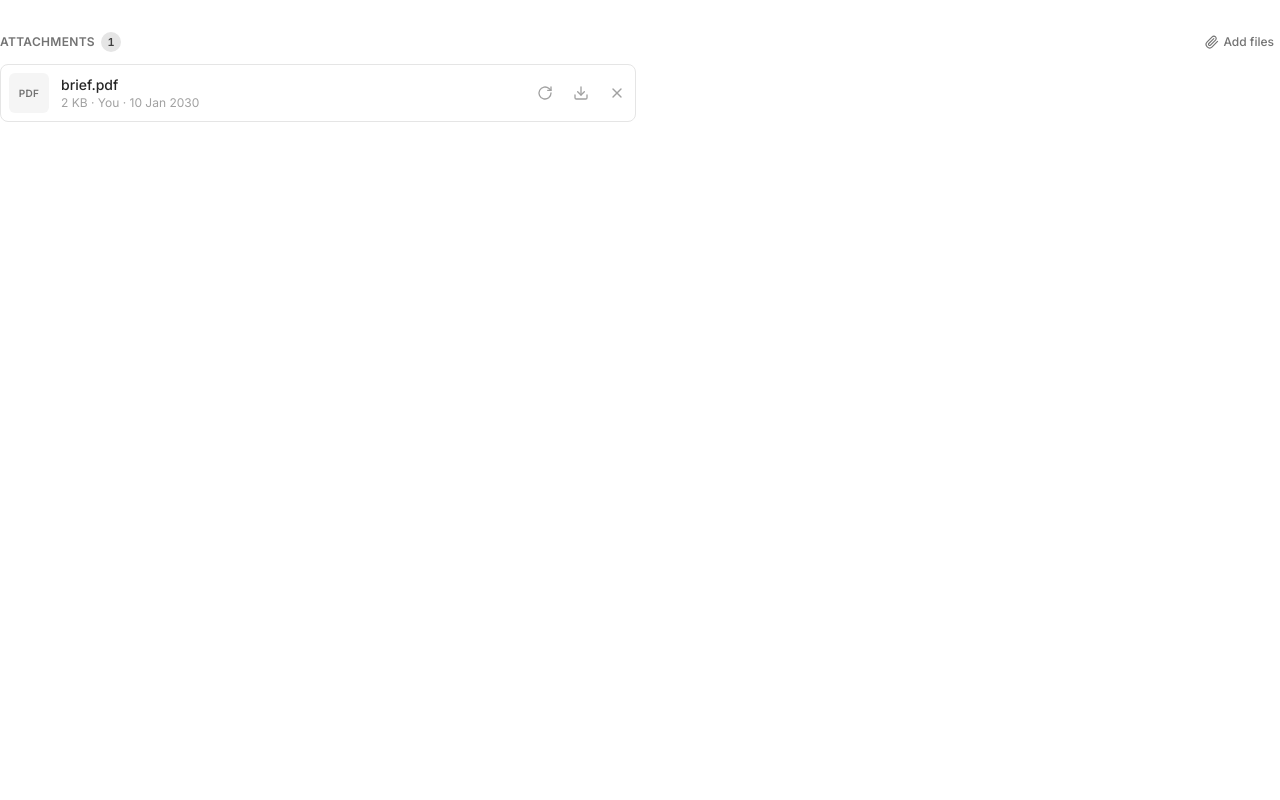
Test: TaskAttachments › says when a preview can’t load, offering the download
Click the button "PDF" at (29, 93), box [9,73,49,113]
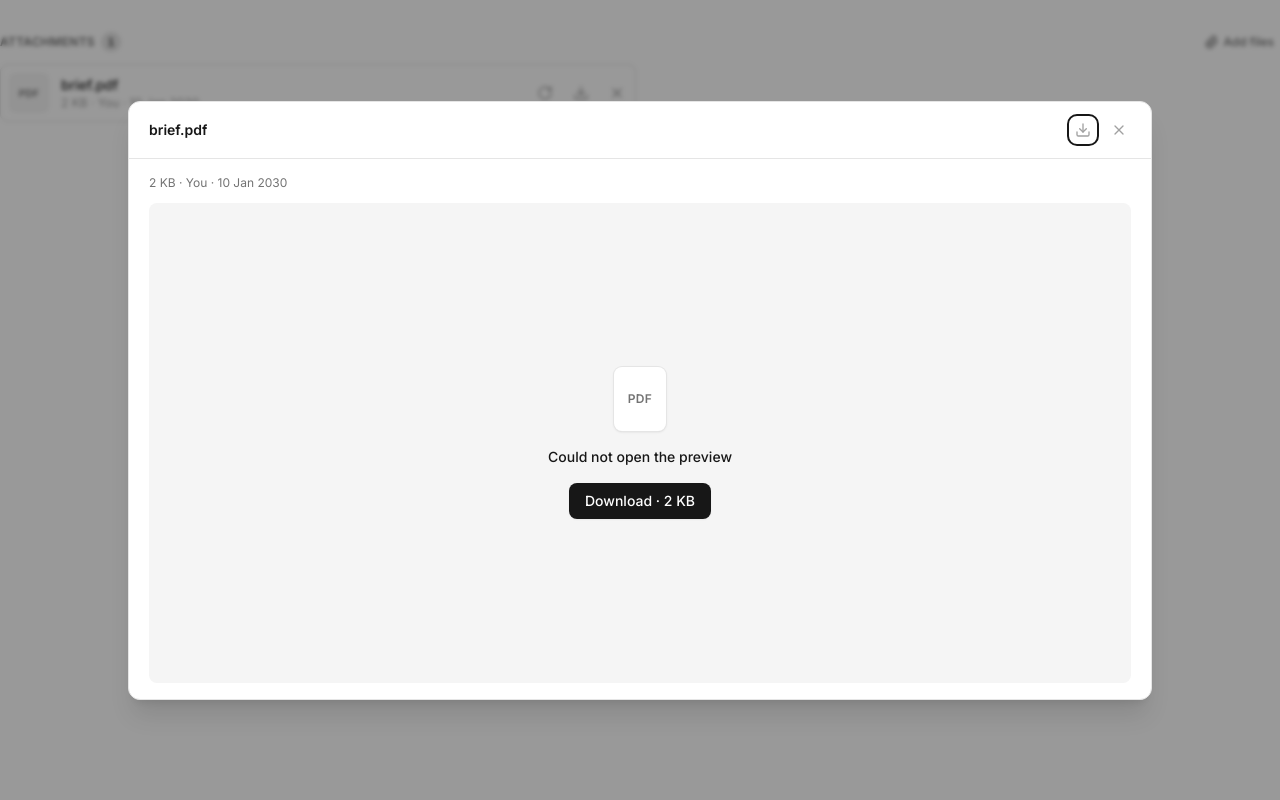
Check: the dialog shows "Could not open the preview", box [548,448,732,464]
